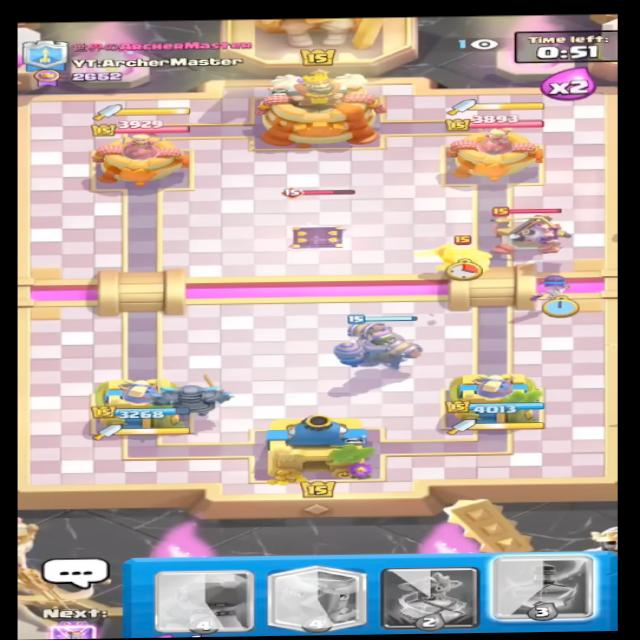evo-tesla-closed: (268, 184, 364, 252)
knight: (421, 234, 497, 278)
x-bow: (473, 201, 579, 260)
